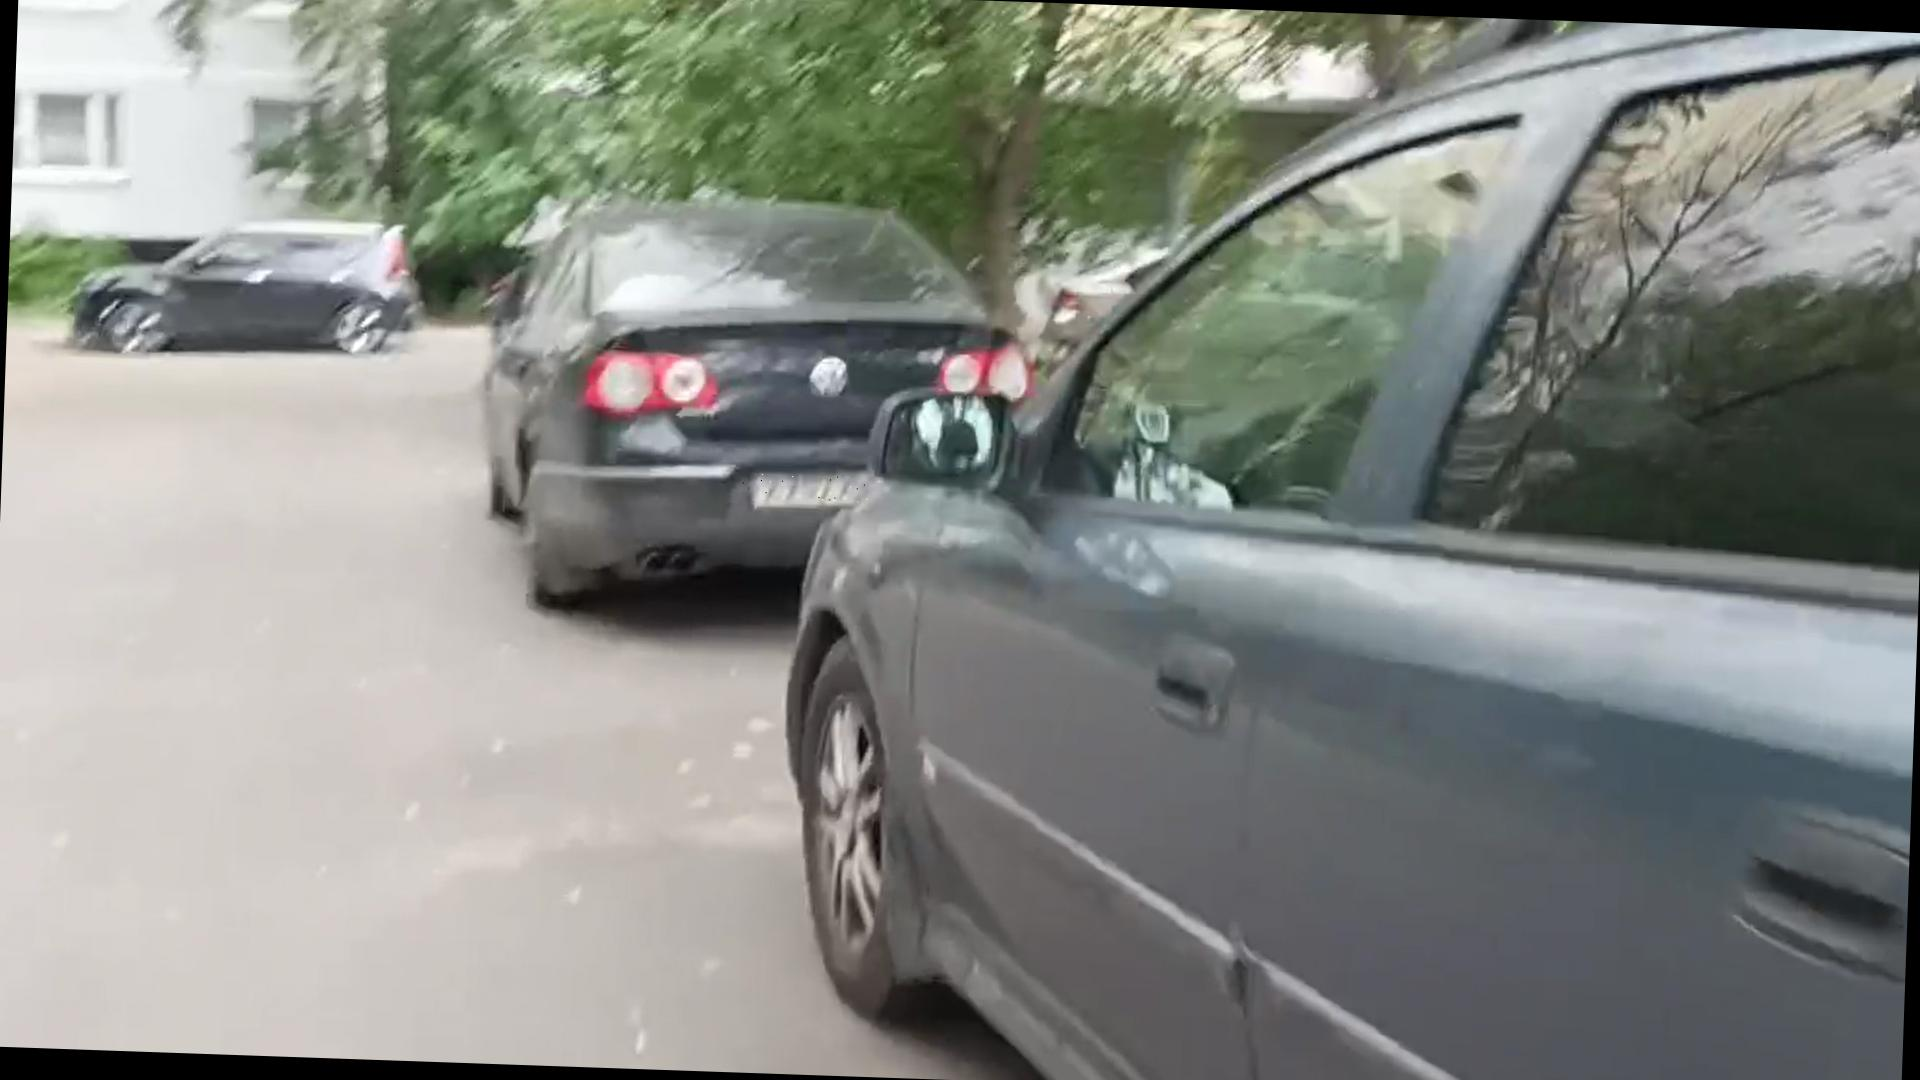plate: (743, 473, 873, 507)
